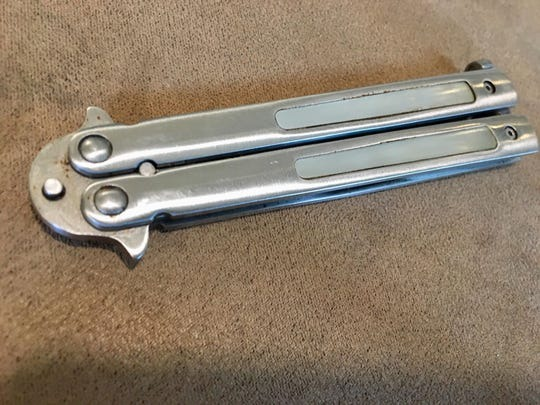knife: (26, 55, 540, 267)
